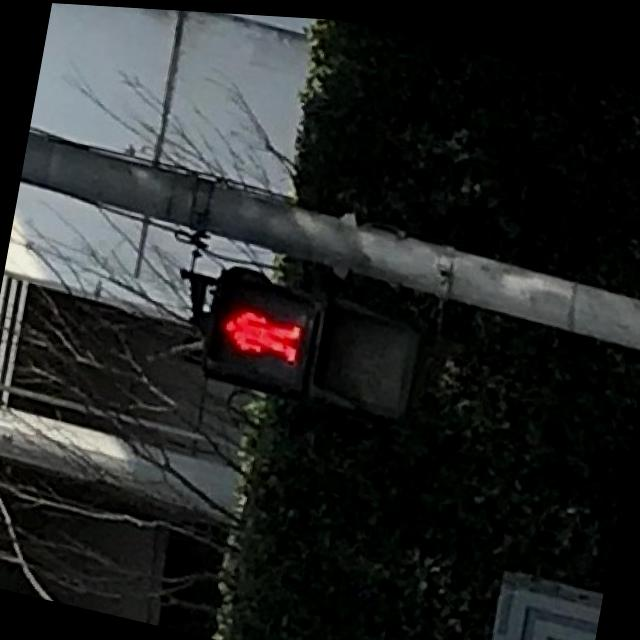red_light: (201, 268, 315, 381)
